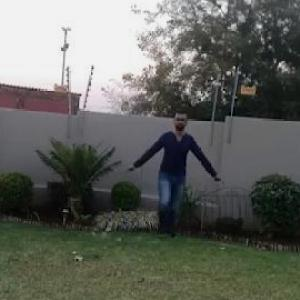land: (118, 108, 220, 243)
